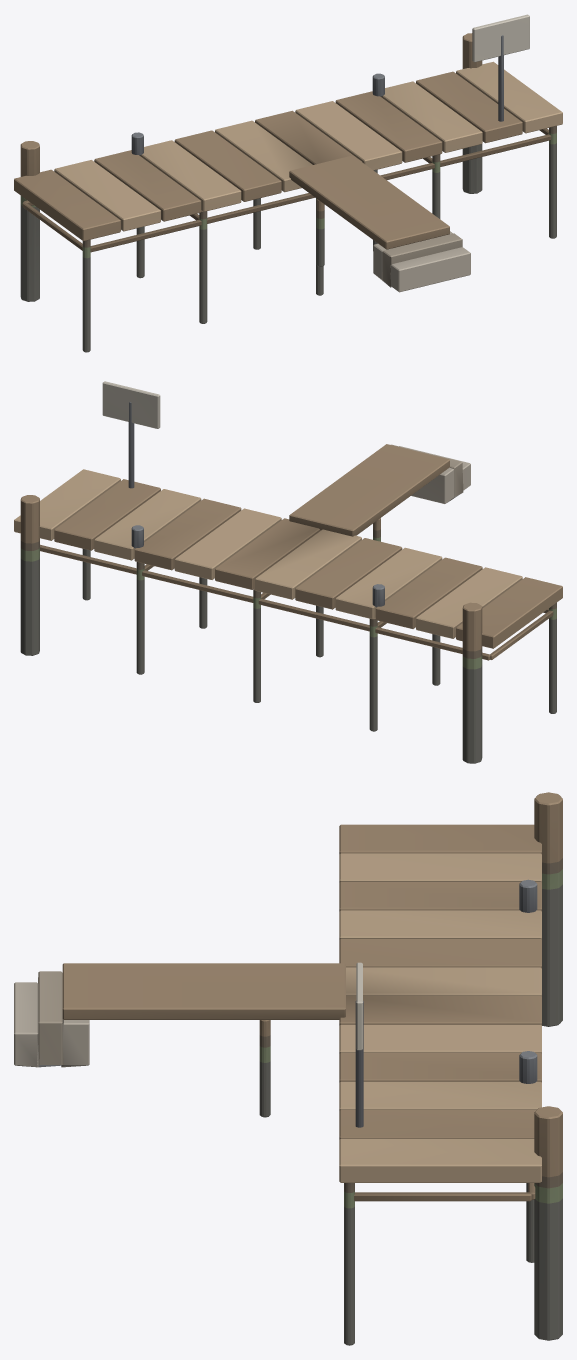
File: dock_boat.glb
The picture shows the model from 3 angles, top to bottom: view 1: azimuth 30°, elevation 25°; view 2: azimuth 150°, elevation 25°; view 3: azimuth 270°, elevation 25°; orthographic projection. The views are drawn at different scales.
Bounding box in the file's own units: 11.95 × 5.35 × 8.13.
